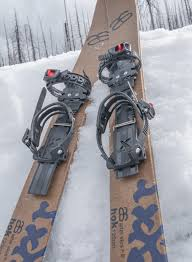skis: (1, 1, 170, 262)
